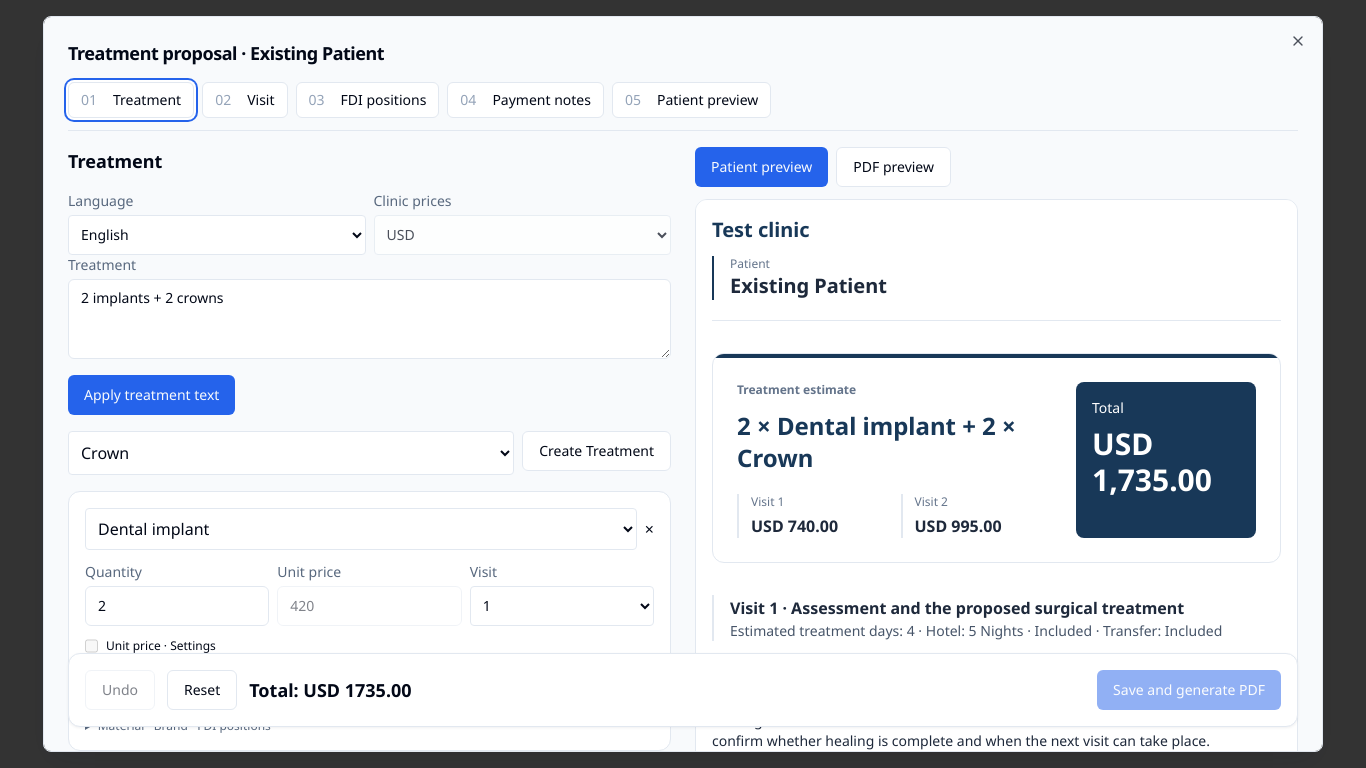
Test: prevents unauthorised catalog discounts and keeps saved prices on a treatment-text refresh
Replace the text in the text box labelled "Treatment" with "3 implants + 2 crowns" at x=370, y=319, box [68,279,671,359]
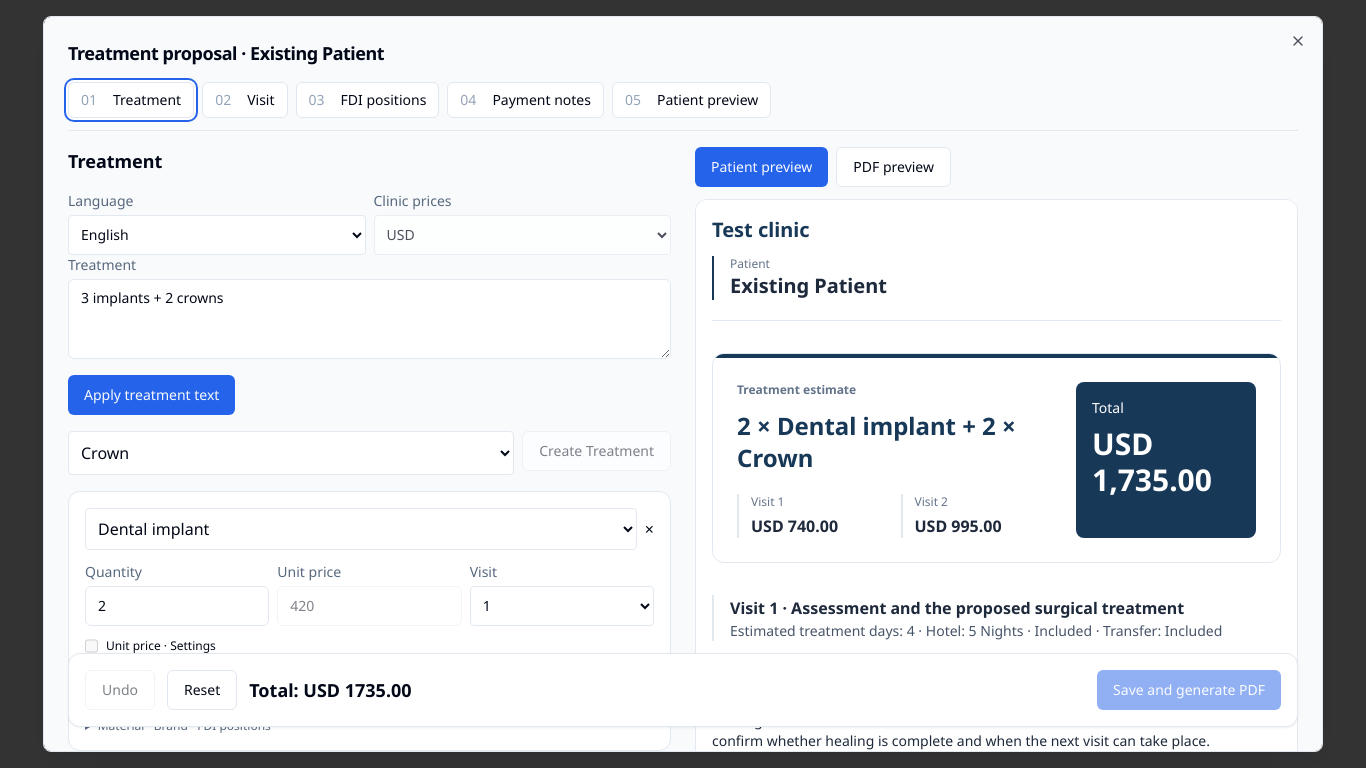
Click the button "Apply treatment text".
click(152, 395)  # box [68,375,235,415]
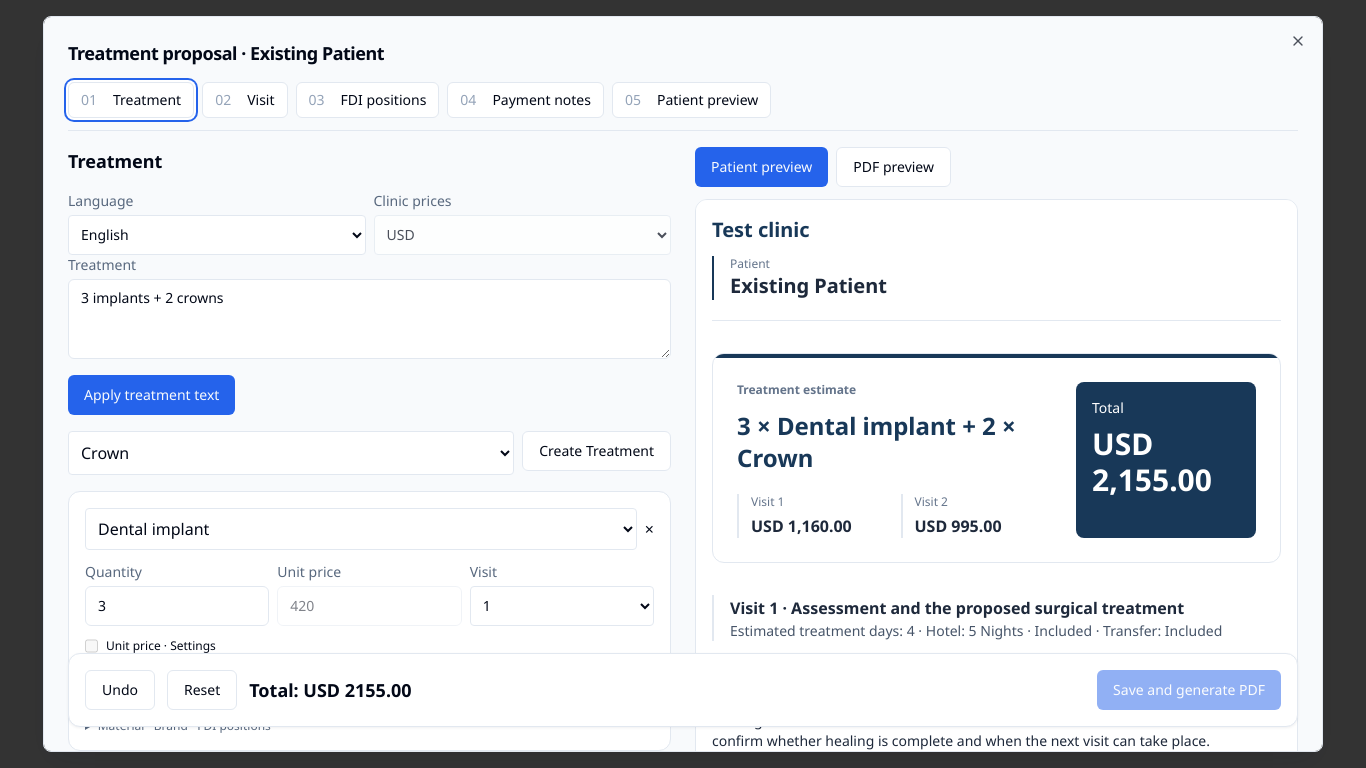
Expected: the number field labelled "Unit price" holds "420", [277,586,462,626]
Expected: the number field labelled "Quantity" holds "3", [85,586,269,626]
